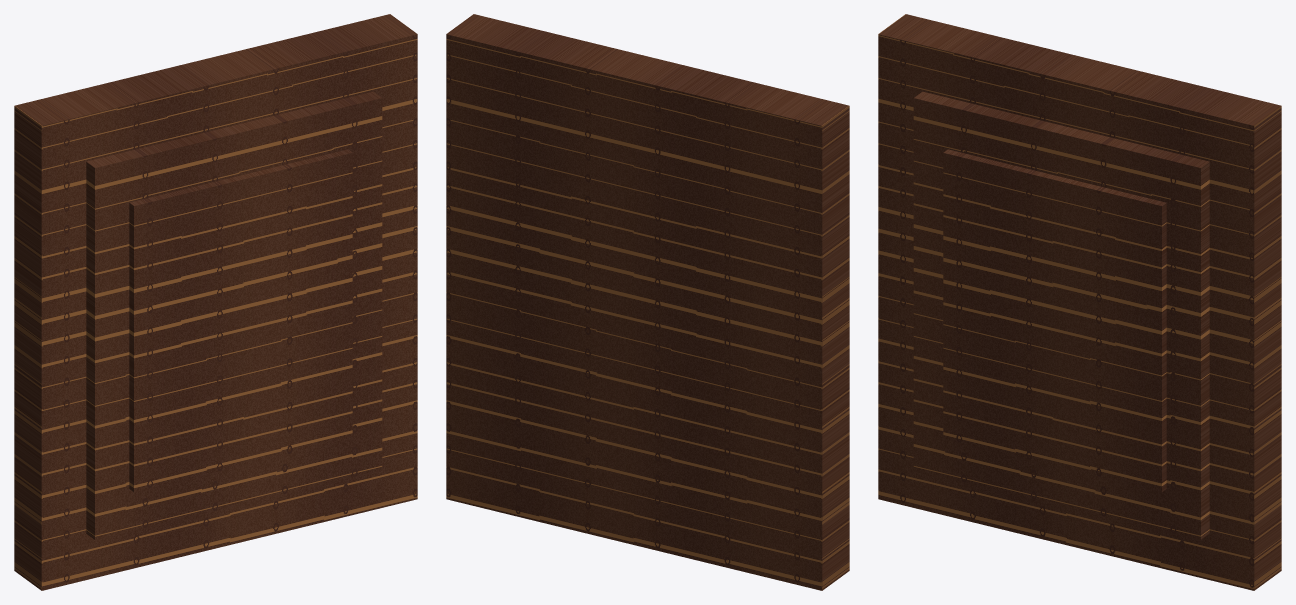
File: marco_fotografia.obj
3 views of the same model, side by side, from view 1: azimuth 30°, elevation 25°; view 2: azimuth 150°, elevation 25°; view 3: azimuth 330°, elevation 25° (orthographic).
Visible parts, largest first — view 1: marco_fotografia; view 2: marco_fotografia; view 3: marco_fotografia.
Boxes of the visible parts, x1,y1,x2,y2 form: marco_fotografia: [14, 14, 417, 590]; marco_fotografia: [446, 14, 849, 590]; marco_fotografia: [878, 14, 1281, 590].
Bounding box in the file's own units: 0.55 × 0.65 × 0.1045.
1 material, 1 textured.
